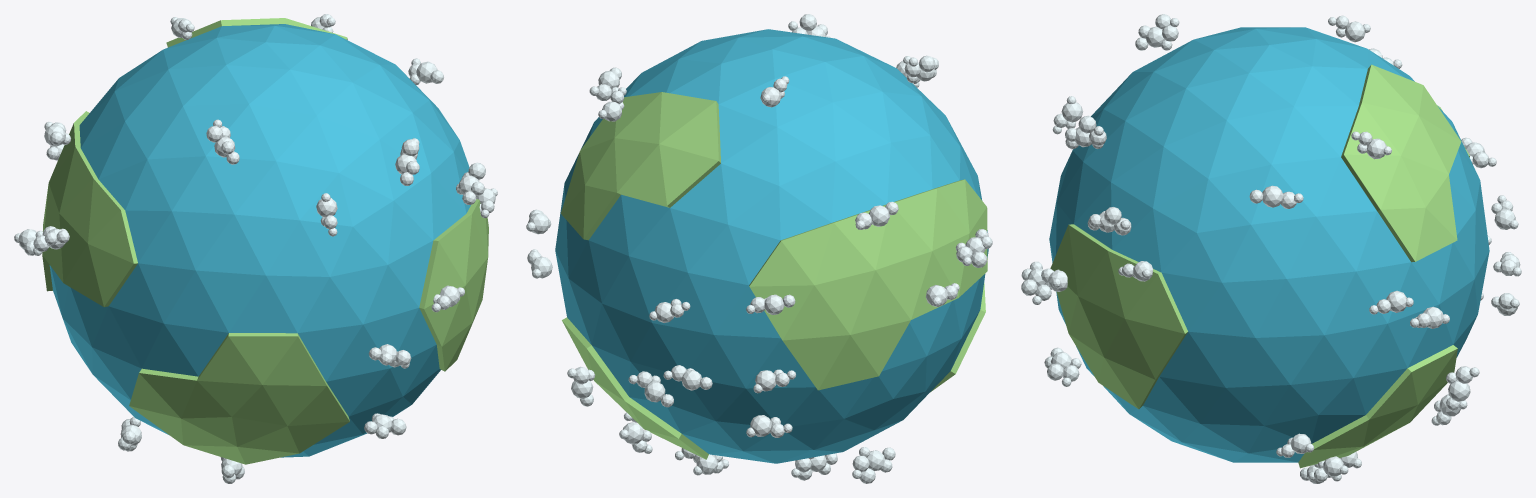
The model's file is earth.fbx.
3 views of the same model, side by side, from view 1: azimuth 30°, elevation 25°; view 2: azimuth 150°, elevation 25°; view 3: azimuth 270°, elevation 25° (orthographic).
Visible parts, largest first — view 1: Icosphere.001, Icosphere.027; view 2: Icosphere.001, Icosphere.027; view 3: Icosphere.001, Icosphere.027.
Part boxes in pixels (x1,y1,x2,y2): Icosphere.001: [42, 18, 488, 464]; Icosphere.027: [14, 14, 497, 483]; Icosphere.001: [555, 29, 988, 463]; Icosphere.027: [526, 14, 992, 483]; Icosphere.001: [1049, 27, 1489, 468]; Icosphere.027: [1021, 14, 1521, 483].
Size of the model in its own units: 132 by 133 by 138.
